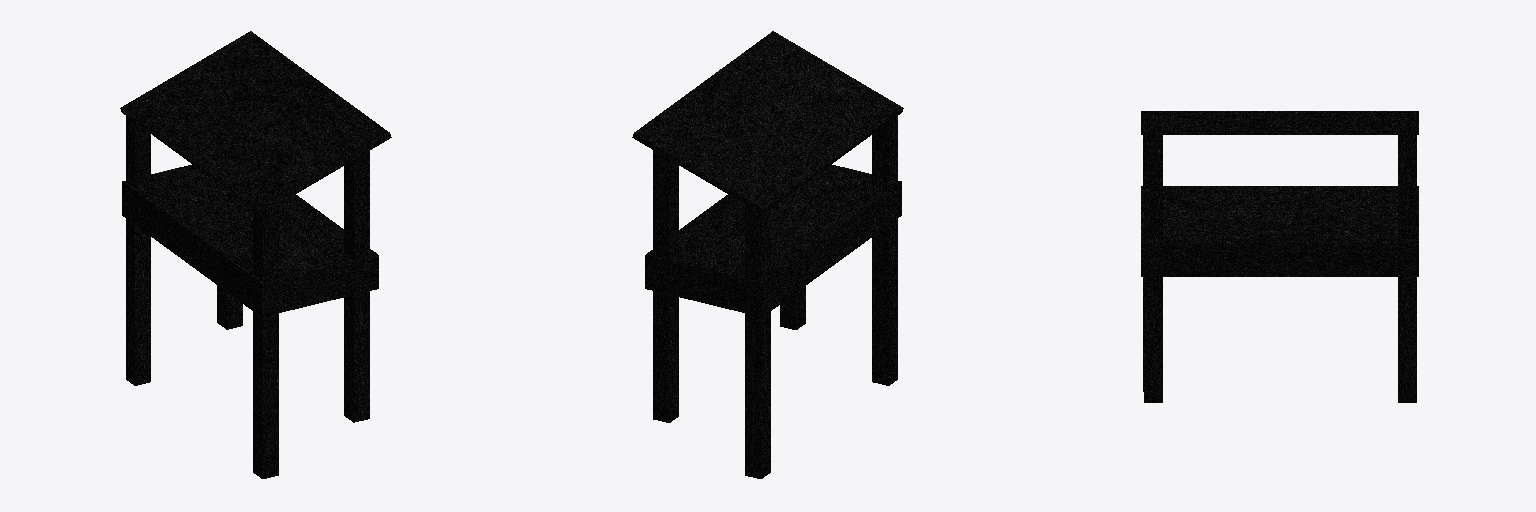
The picture shows the model from 3 angles: view 1: azimuth 30°, elevation 25°; view 2: azimuth 150°, elevation 25°; view 3: azimuth 270°, elevation 25°; orthographic projection.
Parts seen in each view (by area): view 1: Box17, Box16, Box21, Box18, Box20, Box19; view 2: Box17, Box16, Box20, Box19, Box21, Box18; view 3: Box16, Box17, Box19, Box18.
Boxes of the visible parts, x1=… form: Box17: x1=120, y1=31, x2=391, y2=214; Box16: x1=122, y1=164, x2=378, y2=317; Box21: x1=253, y1=199, x2=278, y2=478; Box18: x1=344, y1=141, x2=369, y2=422; Box20: x1=126, y1=106, x2=150, y2=385; Box19: x1=217, y1=48, x2=242, y2=329; Box17: x1=632, y1=31, x2=903, y2=214; Box16: x1=645, y1=164, x2=901, y2=317; Box20: x1=745, y1=199, x2=770, y2=478; Box19: x1=653, y1=142, x2=678, y2=422; Box21: x1=872, y1=106, x2=897, y2=385; Box18: x1=780, y1=49, x2=805, y2=329; Box16: x1=1141, y1=186, x2=1418, y2=276; Box17: x1=1141, y1=111, x2=1418, y2=134; Box19: x1=1398, y1=122, x2=1416, y2=402; Box18: x1=1144, y1=122, x2=1162, y2=402.
Size of the model in its own units: 4.05 by 9.27 by 7.39.
1 materials, 1 textured.